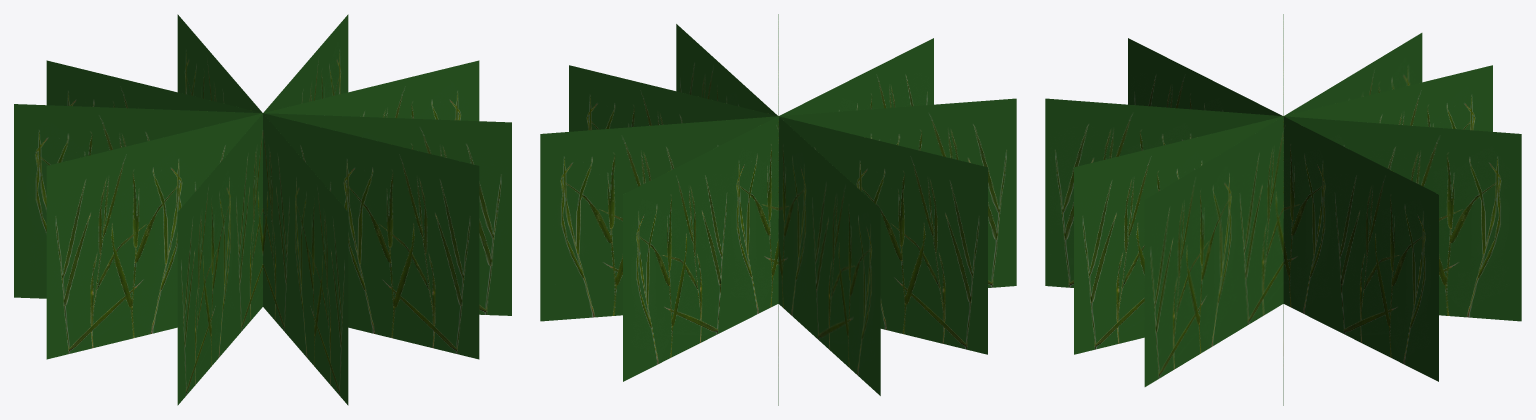
Rendered from grass5.FBX.
3 views of the same model, side by side, from view 1: azimuth 30°, elevation 25°; view 2: azimuth 150°, elevation 25°; view 3: azimuth 270°, elevation 25° (orthographic). The views are drawn at different scales.
Parts seen in each view (by area): view 1: grass5; view 2: grass5; view 3: grass5.
Boxes of the visible parts, bbox=[...] form: grass5: bbox=[14, 14, 511, 405]; grass5: bbox=[540, 14, 1016, 405]; grass5: bbox=[1045, 14, 1521, 405].
Bounding box in the file's own units: 1.87 × 0.8 × 1.84.
